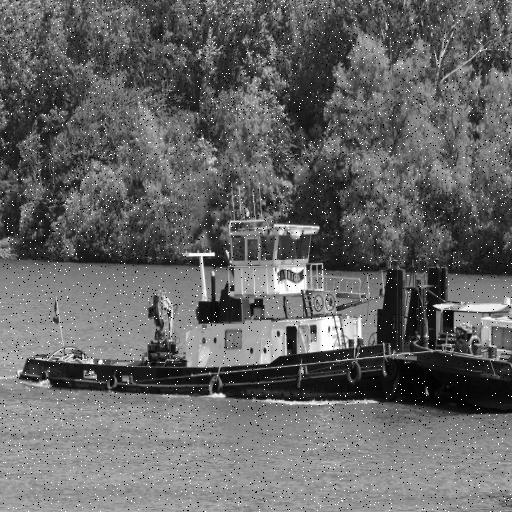tugboat: (14, 173, 454, 410)
